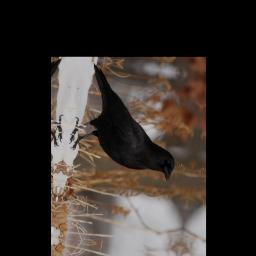Crow: (65, 61, 190, 185)
